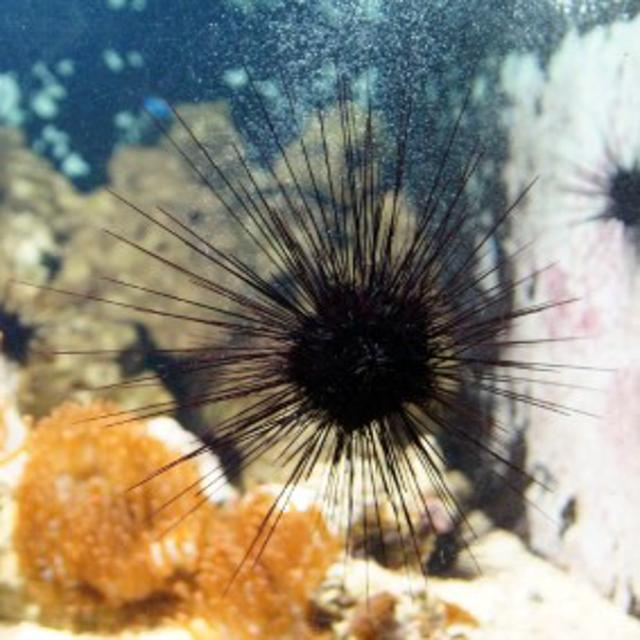Urchin: (40, 64, 570, 572)
